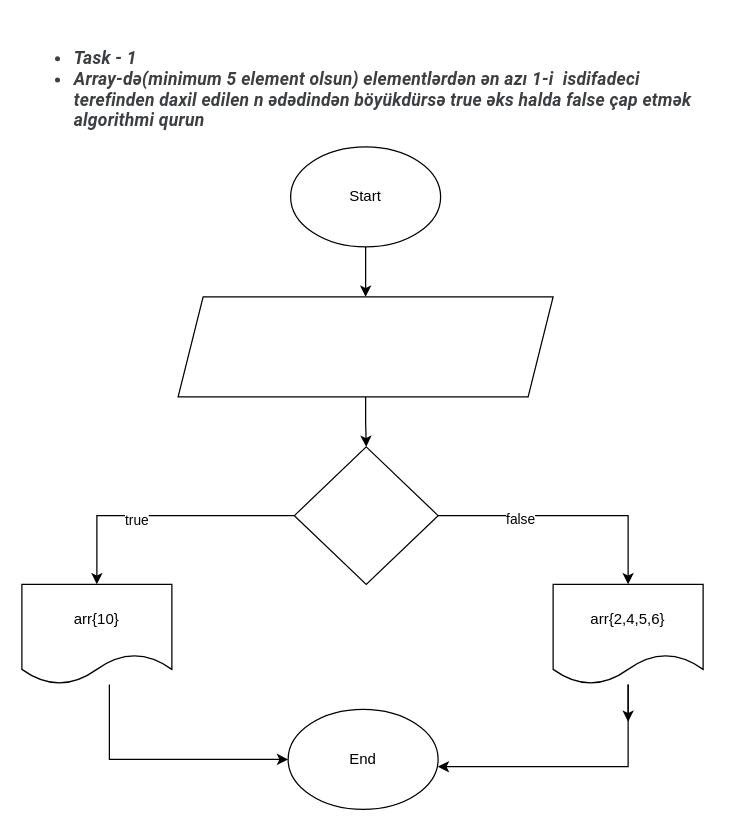
Image size: 731x831. Some labels were removed from this diagram. The box of each missing label's shape, as (x1, y1, x2, y2) in pixels:
arr{2,4,5,6,10} n=9: (177, 296, 553, 397)
arr{2,4,5,6,10}>n: (293, 446, 438, 584)
